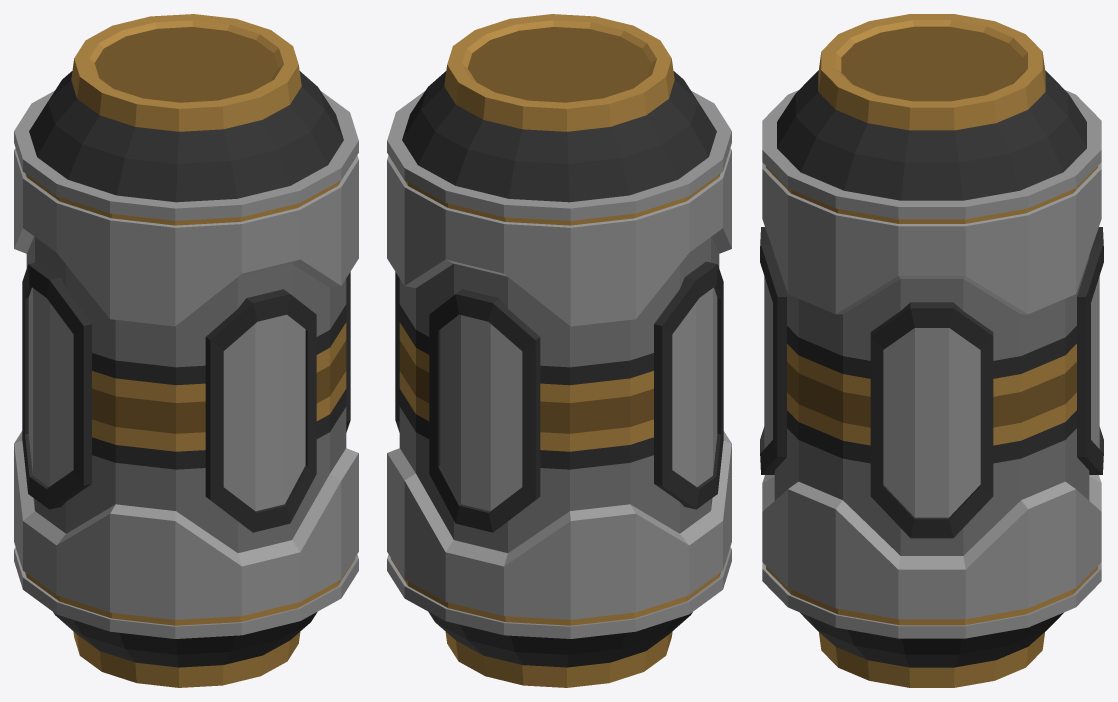
File: Props_Capsule.glb
3 renders of one model, left to right at view 1: azimuth 30°, elevation 25°; view 2: azimuth 150°, elevation 25°; view 3: azimuth 270°, elevation 25°, orthographic.
Visible parts, largest first — view 1: Props_Capsule; view 2: Props_Capsule; view 3: Props_Capsule.
Boxes of the visible parts, x1,y1,x2,y2 form: Props_Capsule: (14,14,358,687); Props_Capsule: (387,14,731,687); Props_Capsule: (760,14,1103,687).
Size of the model in its own units: 0.8693 by 1.62 by 0.8693.
